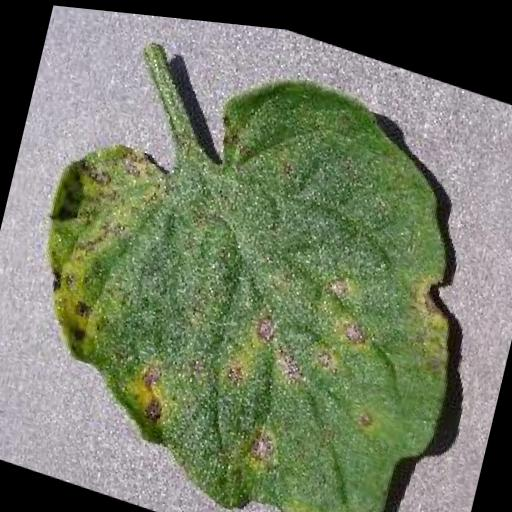Septoria: (0, 0, 509, 512)
